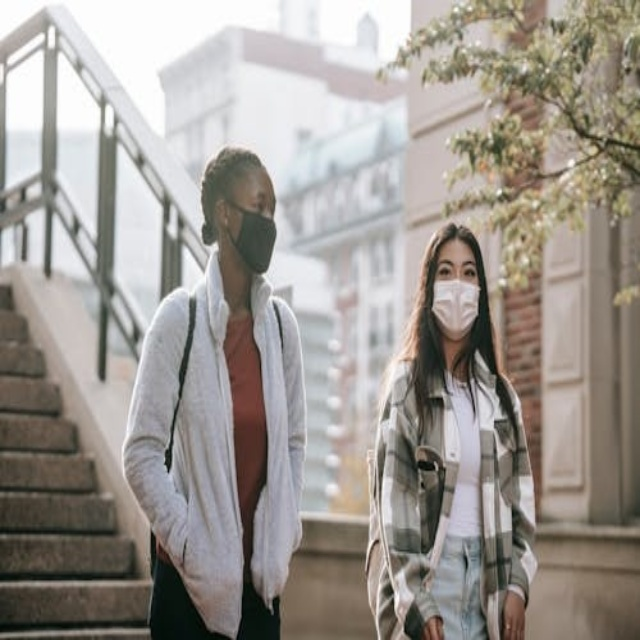Mascara: (220, 203, 277, 274), (431, 278, 482, 339)
Sin_gafas: (433, 252, 480, 279)
Sin_guantes: (499, 586, 527, 632)
